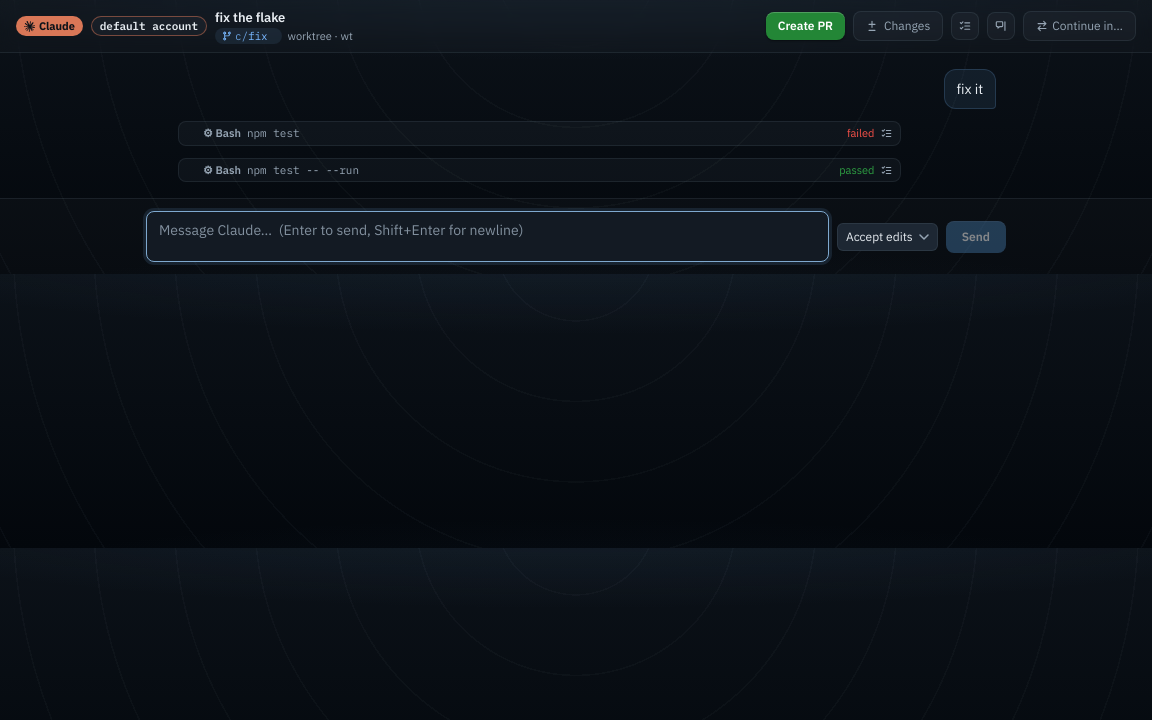
Test: checks › keeps the runs before the newest verdict one step away
The image size is (1152, 720).
the older run's row opens the panel at itself: its fold opens, the run is in it
What coordinates should you click on to do the following:
click the button "⚙︎ Bash npm test failed"
I would click on:
 (273, 133)
Its box is [178,121,900,146].
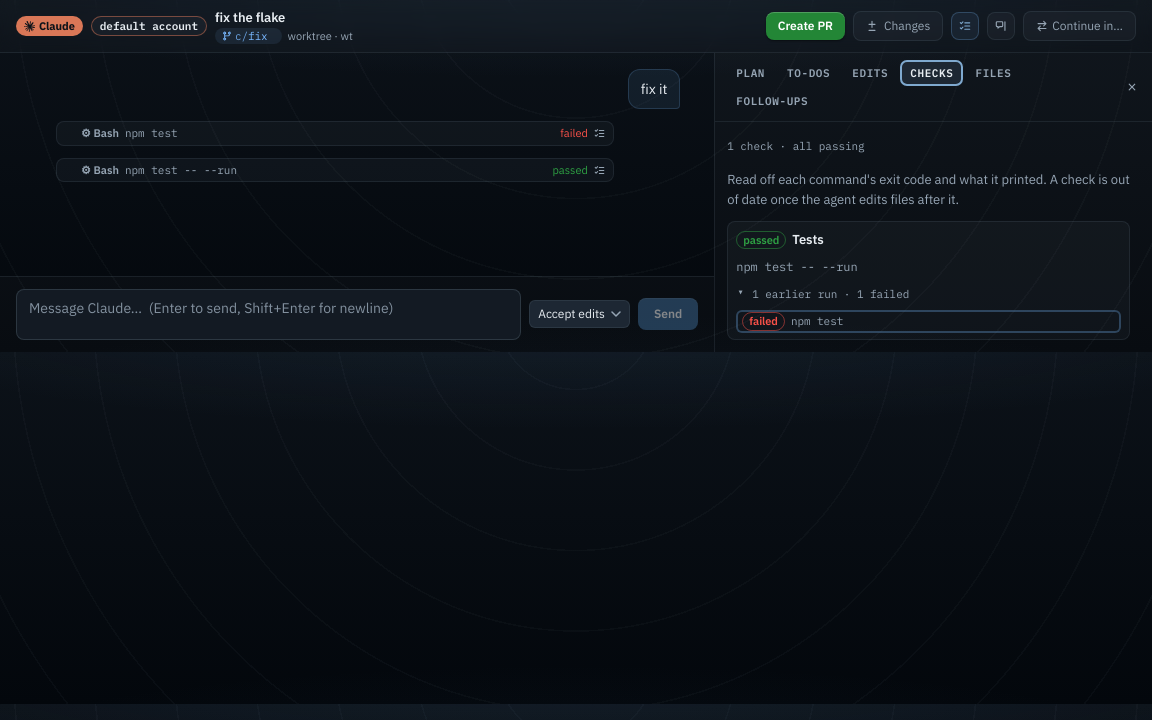
Result: the heading "1 earlier run · 1 failed" is shown at [752,287,909,301]
